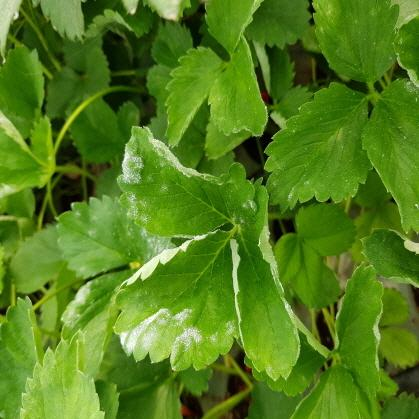Powdery Mildew Leaf: (111, 228, 239, 372), (115, 124, 258, 240), (229, 176, 300, 381), (54, 193, 172, 278), (60, 268, 136, 378), (333, 259, 384, 405)
